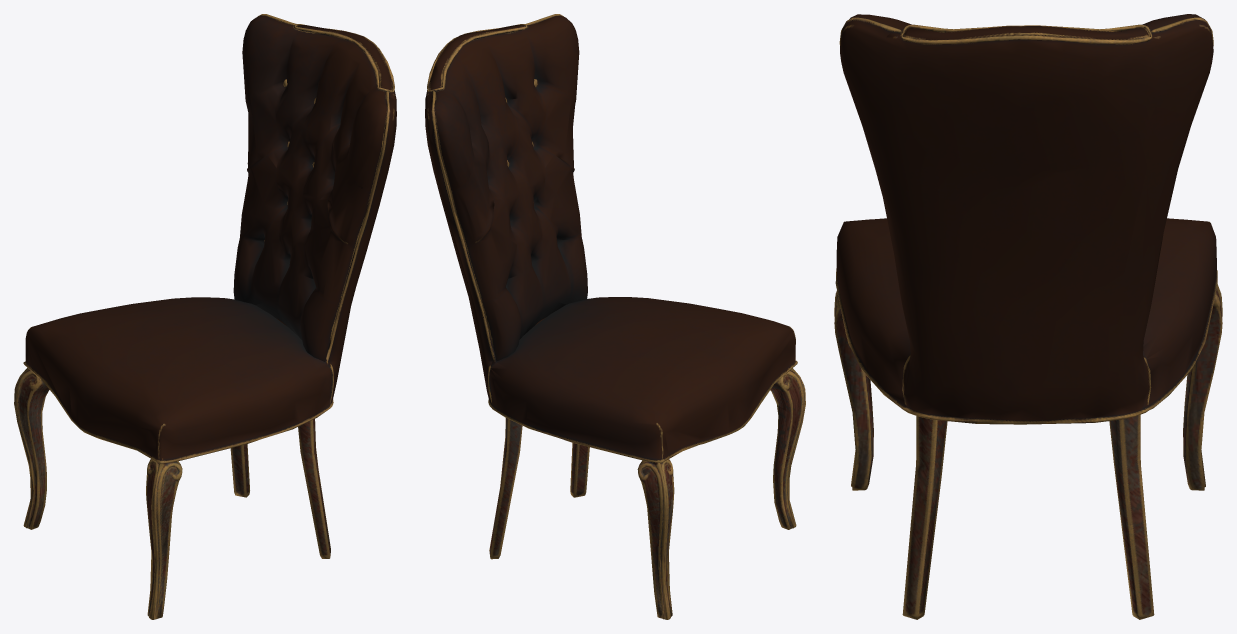
Rendered from SM_CarpaneseChairGuest.fbx.
The picture shows the model from 3 angles, left to right: view 1: azimuth 30°, elevation 25°; view 2: azimuth 150°, elevation 25°; view 3: azimuth 270°, elevation 25°; orthographic projection. The views are drawn at different scales.
Visible parts, largest first — view 1: SM_CarpaneseChairGuest_LOD0; view 2: SM_CarpaneseChairGuest_LOD0; view 3: SM_CarpaneseChairGuest_LOD0.
Boxes of the visible parts, bbox=[...] form: SM_CarpaneseChairGuest_LOD0: bbox=[14, 14, 396, 619]; SM_CarpaneseChairGuest_LOD0: bbox=[425, 14, 805, 619]; SM_CarpaneseChairGuest_LOD0: bbox=[834, 14, 1222, 619].
Size of the model in its own units: 112 by 93.89 by 171.
1 material, 1 textured.
